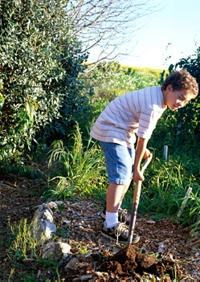person: (90, 70, 199, 246)
